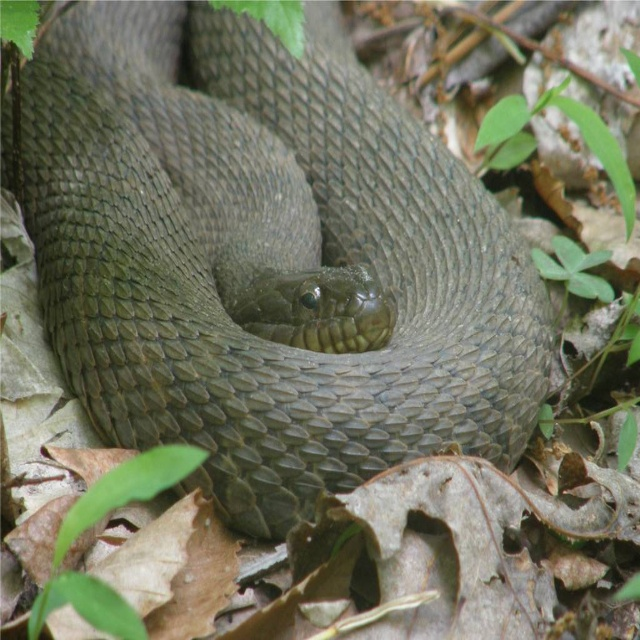Snake: (0, 1, 555, 542)
